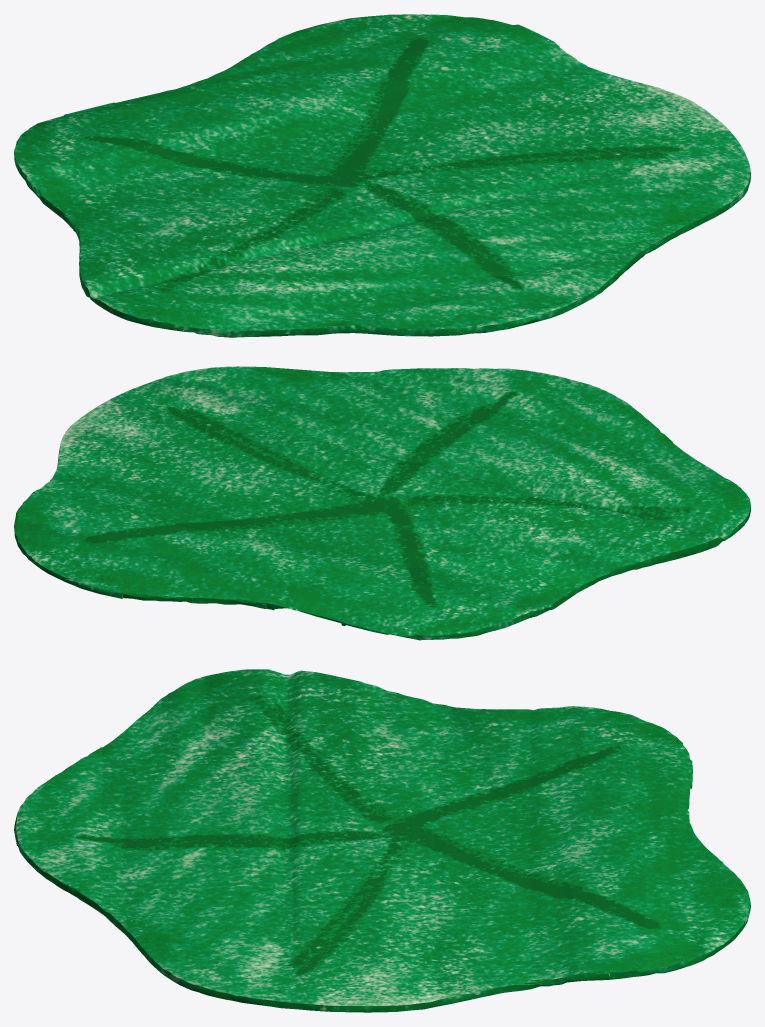
Rendered from coster1.glb.
The picture shows the model from 3 angles, top to bottom: view 1: azimuth 30°, elevation 25°; view 2: azimuth 150°, elevation 25°; view 3: azimuth 270°, elevation 25°; orthographic projection. The views are drawn at different scales.
Visible parts, largest first — view 1: Curve; view 2: Curve; view 3: Curve.
Boxes of the visible parts, x1,y1,x2,y2 form: Curve: [14, 14, 750, 337]; Curve: [14, 366, 750, 640]; Curve: [14, 669, 750, 1012].
Size of the model in its own units: 0.7617 by 0.0155 by 0.7149.
1 material, 1 textured.
